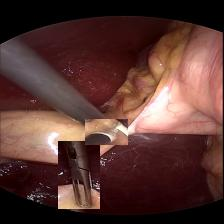Grasper: (58, 140, 100, 208)
Hook: (85, 118, 128, 144)
